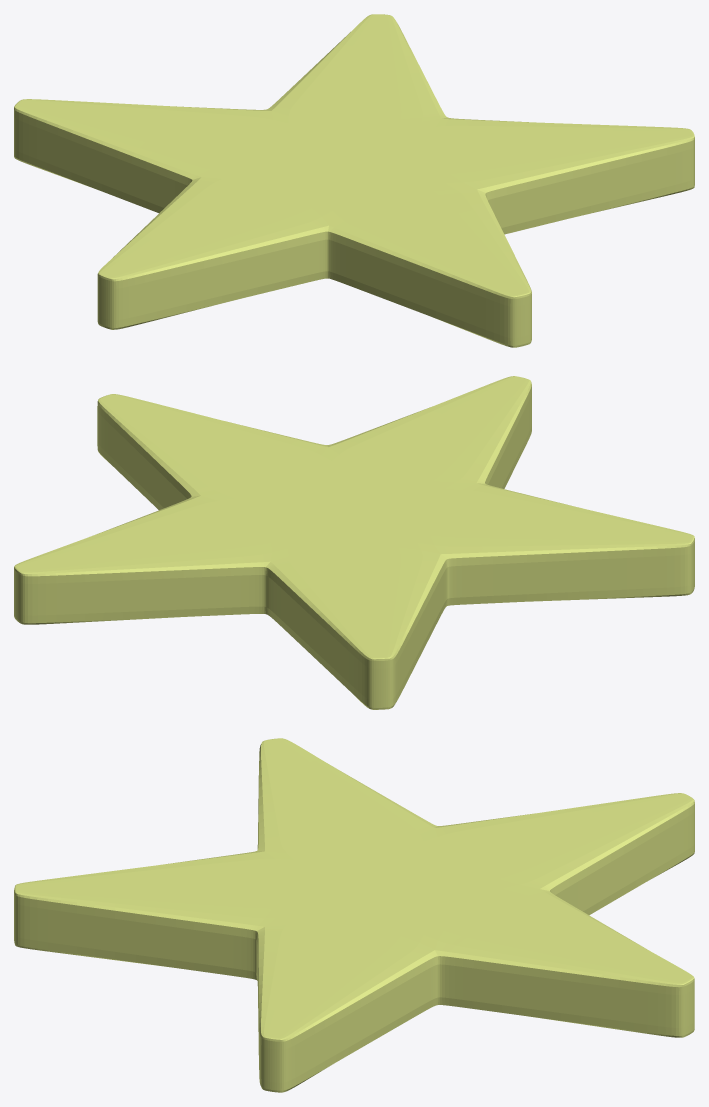
Rendered from star.fbx.
3 renders of one model, top to bottom at view 1: azimuth 30°, elevation 25°; view 2: azimuth 150°, elevation 25°; view 3: azimuth 270°, elevation 25°, orthographic. The views are drawn at different scales.
Parts seen in each view (by area): view 1: Circle; view 2: Circle; view 3: Circle.
Boxes of the visible parts, bbox=[...] form: Circle: bbox=[14, 14, 694, 347]; Circle: bbox=[14, 376, 694, 709]; Circle: bbox=[14, 738, 694, 1092].
Bounding box in the file's own units: 4808 × 400 × 4587.
